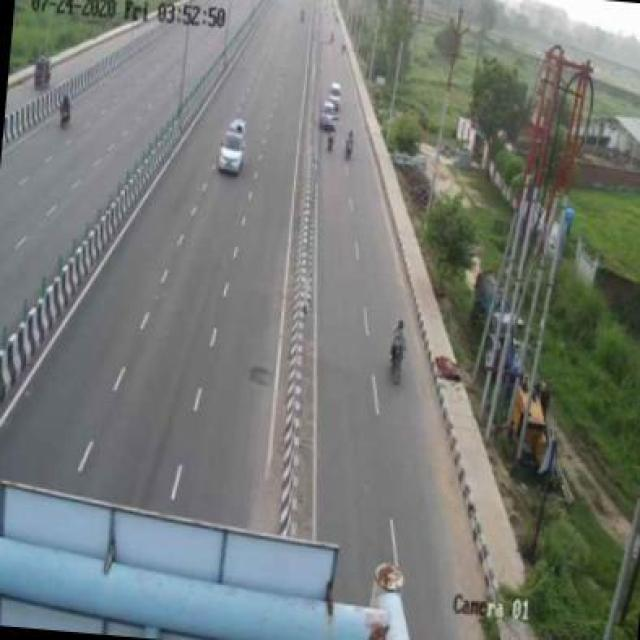car: (216, 112, 252, 180)
